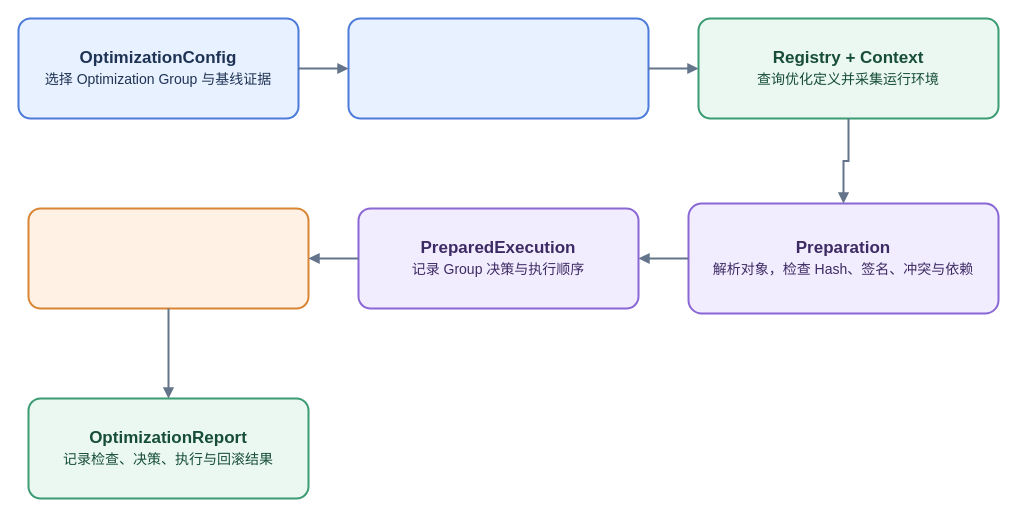
Some shapes in this 1016 by 516 pixel diagram are drawn without their labels. The centre of each missing label's shape, as x and y in pixels:
"Config Loader 加载配置并导入 optimization_modules" goes at (x=498, y=68).
"Executor 按 Group 快照、应用并在失败时回滚" goes at (x=168, y=258).
